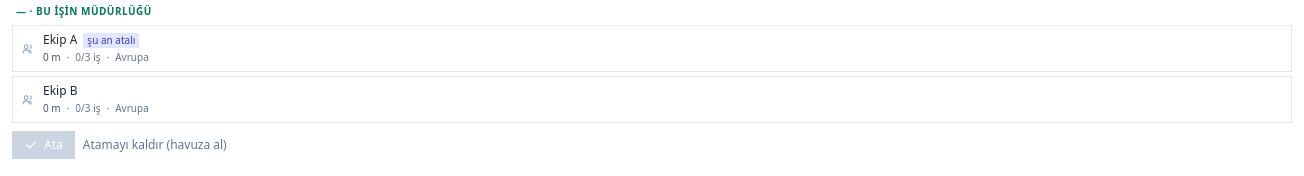
Test: EkipSecici - secim ile sunucu durumu karismaz › atali ekip yeniden secilirse 'Zaten atalı' der ve atamaz
The width and height of the screenshot is (1304, 176).
Click the text "Ekip A" at (60, 40), box [43,32,77,48]
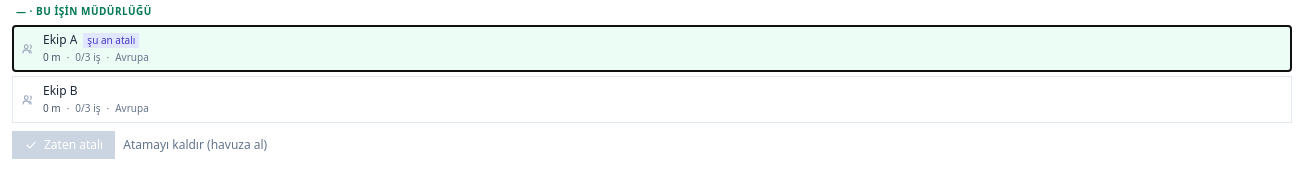
Check: the button "Zaten atalı" is disabled, box [12,131,115,159]
Check: the button "Zaten atalı" is shown, box [12,131,115,159]
